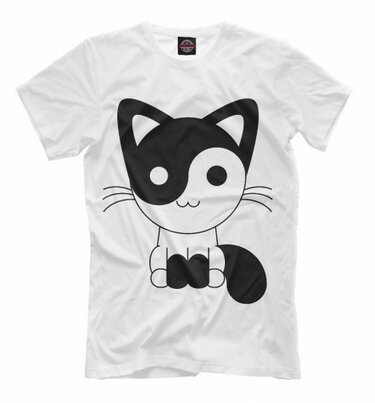cat: (99, 90, 283, 309)
